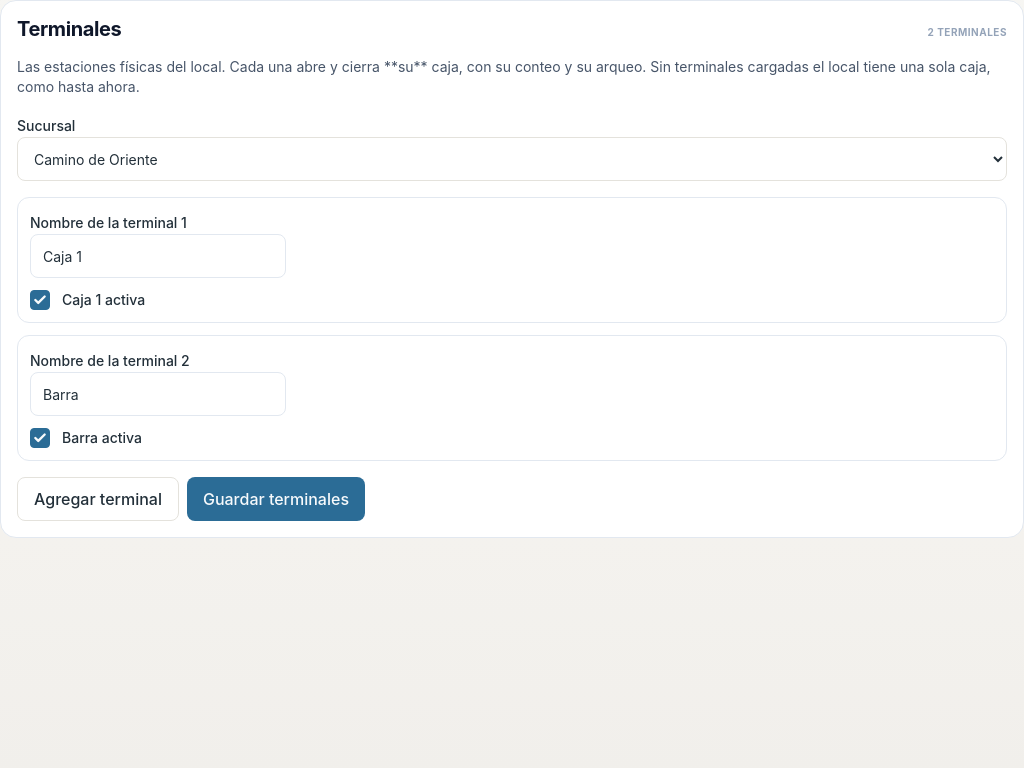
it: CashTerminalsSection › agregar una terminal y guardar manda la lista completa de la sucursal
This screenshot has width=1024, height=768.
Click the button "Agregar terminal" at (98, 499), box [17,477,179,521]
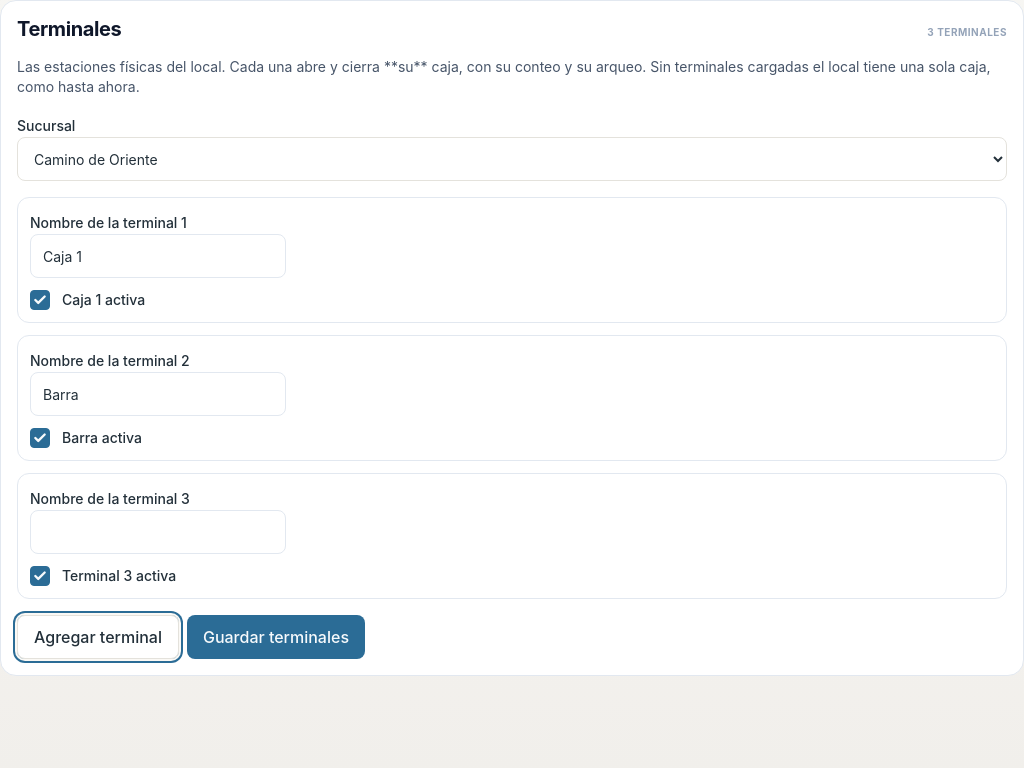
Type "Kiosco" into the field labelled "Nombre de la terminal 3" at (158, 532), box [30,510,286,554]
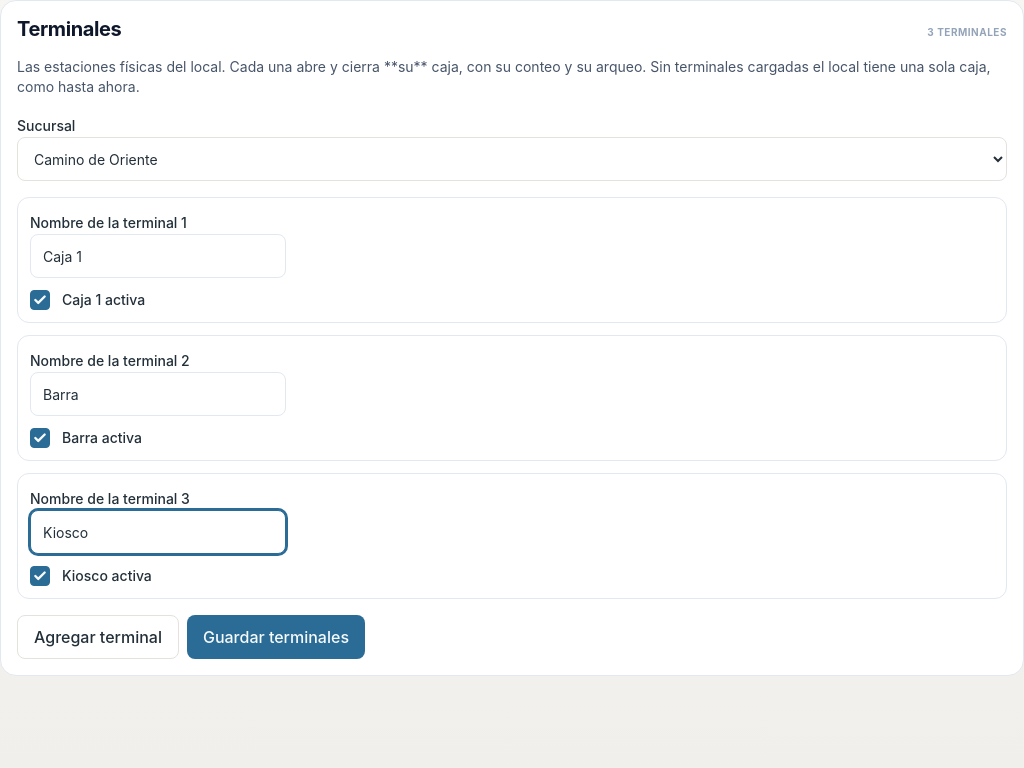
Click the button "Guardar terminales" at (276, 637), box [187,615,365,659]
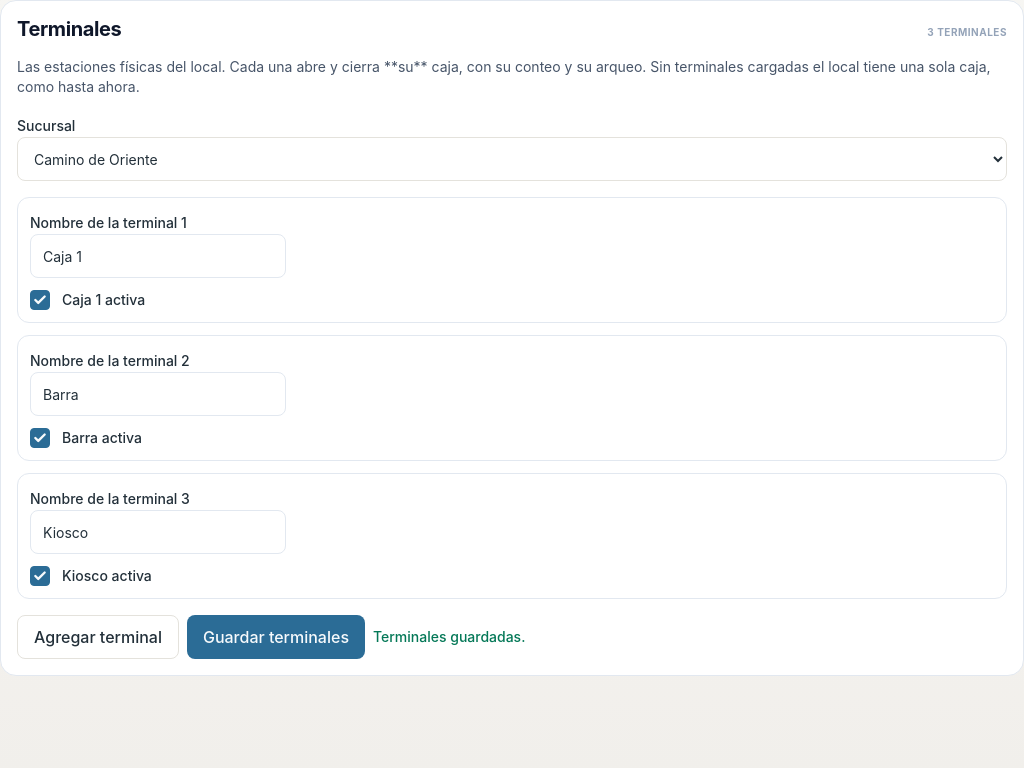
Result: the text "Terminales guardadas." is shown at [373,627,525,647]
